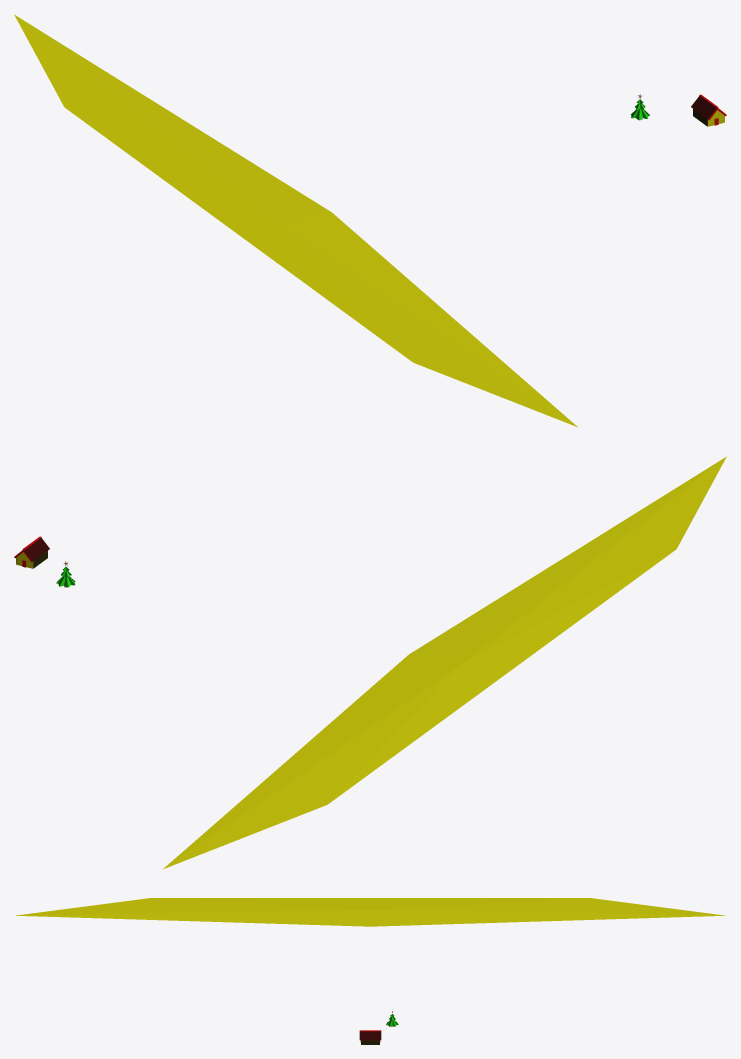
The model's file is tree.obj.
The picture shows the model from 3 angles, top to bottom: view 1: azimuth 30°, elevation 25°; view 2: azimuth 150°, elevation 25°; view 3: azimuth 270°, elevation 25°; orthographic projection. The views are drawn at different scales.
Visible parts, largest first — view 1: scene; view 2: scene; view 3: scene.
Part boxes in pixels (left/top/right/bottom): scene: left=14, top=14, right=726, bottom=427; scene: left=14, top=456, right=726, bottom=869; scene: left=16, top=898, right=724, bottom=1044.
Bounding box in the file's own units: 1119 × 60.23 × 2283.
